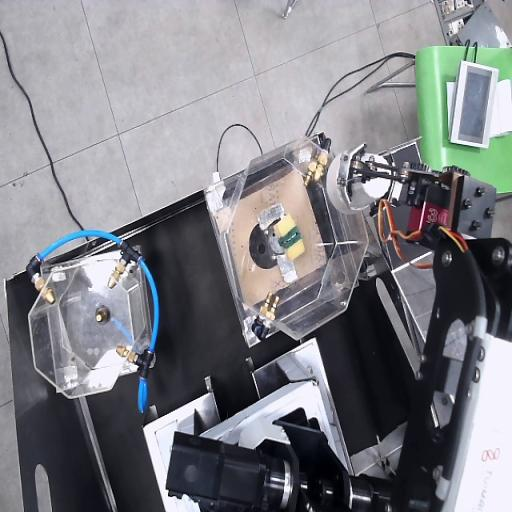cup in wash station: (326, 144, 392, 213)
